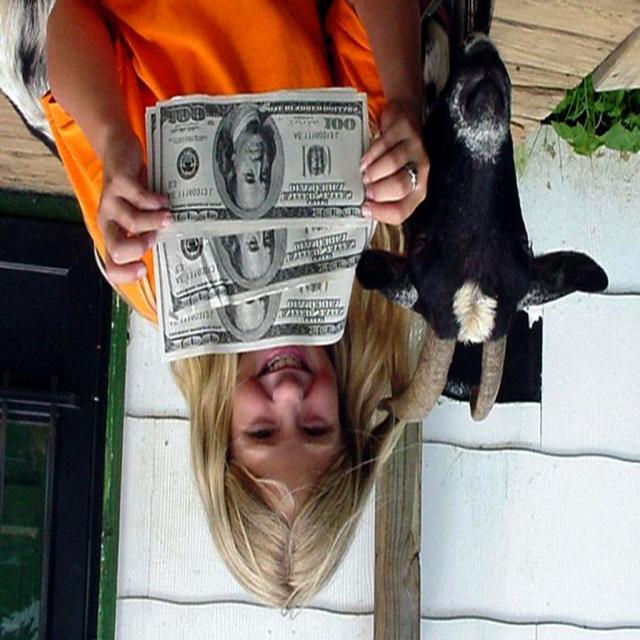Goat: (1, 2, 608, 425), (354, 4, 608, 428)
